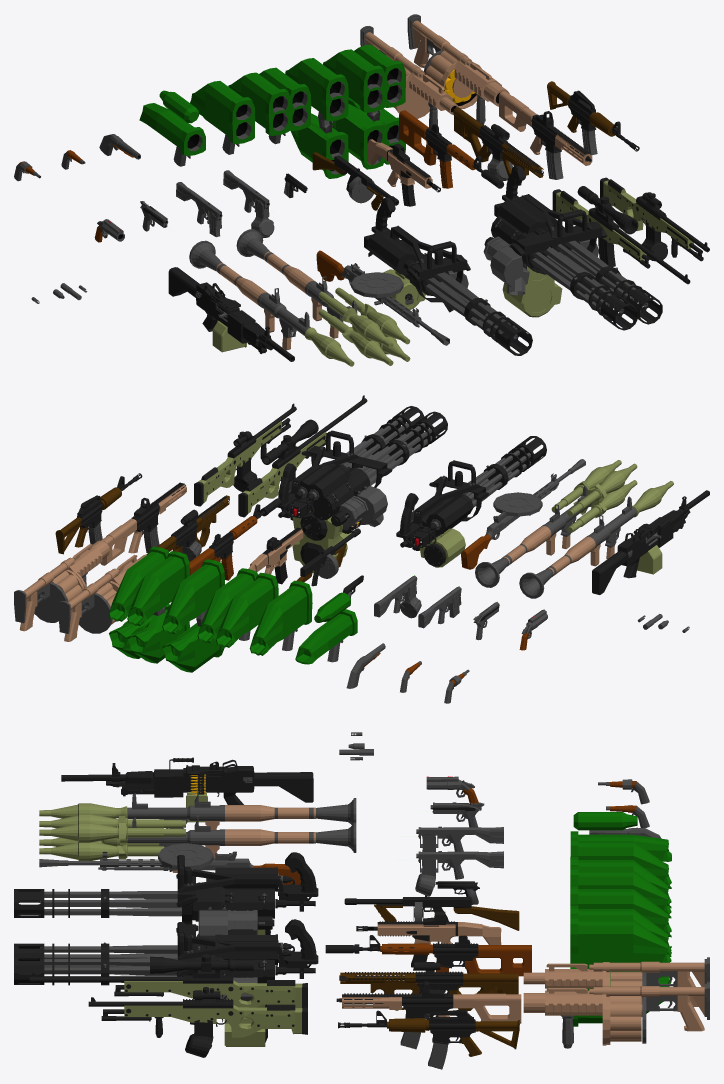
File: MQ weapons MELEE.fbx
3 renders of one model, top to bottom at view 1: azimuth 30°, elevation 25°; view 2: azimuth 150°, elevation 25°; view 3: azimuth 270°, elevation 25°, orthographic. The views are drawn at different scales.
Parts seen in each view (by area): view 1: MiniGunLVL2, MiniGun, BazookaLVL5, RPGLVL2, BazookaLVL4, BazookaLVL3, RPG, GranadeLouncherLVL2, MachinGun, SniperRifle, BazookaLVL2, MG4 (+14 smaller); view 2: MiniGunLVL2, MiniGun, BazookaLVL5, RPGLVL2, BazookaLVL4, BazookaLVL3, GranadeLouncherLVL2, RPG, SniperRifle, GranadeLouncher, BazookaLVL2, MachinGun (+15 smaller); view 3: MiniGun, MiniGunLVL2, RPGLVL2, SniperRifle, BazookaLVL5, GranadeLouncherLVL2, MachinGun, SniperRifleAuto, RPG, GranadeLouncher, MG4, MG3 (+19 smaller).
Part boxes in pixels (bbox=[...]): MiniGunLVL2: bbox=[483, 165, 662, 330]; MiniGun: bbox=[364, 197, 532, 355]; BazookaLVL5: bbox=[323, 44, 405, 169]; RPGLVL2: bbox=[236, 229, 410, 365]; BazookaLVL4: bbox=[285, 58, 348, 178]; BazookaLVL3: bbox=[228, 67, 311, 144]; RPG: bbox=[189, 240, 354, 366]; GranadeLouncherLVL2: bbox=[407, 14, 509, 125]; MachinGun: bbox=[168, 267, 294, 361]; SniperRifle: bbox=[552, 186, 690, 284]; BazookaLVL2: bbox=[190, 81, 255, 154]; MG4: bbox=[499, 91, 592, 179]; MiniGunLVL2: bbox=[277, 406, 447, 573]; MiniGun: bbox=[396, 436, 546, 567]; BazookaLVL5: bbox=[109, 546, 189, 663]; RPGLVL2: bbox=[475, 460, 637, 587]; BazookaLVL4: bbox=[162, 559, 224, 672]; BazookaLVL3: bbox=[197, 568, 278, 647]; GranadeLouncherLVL2: bbox=[14, 540, 109, 631]; RPG: bbox=[519, 481, 673, 598]; SniperRifle: bbox=[238, 395, 367, 517]; GranadeLouncher: bbox=[58, 554, 146, 641]; BazookaLVL2: bbox=[249, 580, 312, 655]; MachinGun: bbox=[592, 490, 709, 594]; MiniGun: bbox=[14, 852, 318, 939]; MiniGunLVL2: bbox=[14, 919, 318, 1046]; RPGLVL2: bbox=[39, 814, 356, 872]; SniperRifle: bbox=[29, 954, 307, 1007]; BazookaLVL5: bbox=[570, 905, 671, 1026]; GranadeLouncherLVL2: bbox=[523, 981, 709, 1048]; MachinGun: bbox=[61, 759, 313, 804]; SniperRifleAuto: bbox=[88, 997, 307, 1037]; RPG: bbox=[39, 790, 356, 829]; GranadeLouncher: bbox=[523, 957, 709, 1019]; MG4: bbox=[336, 981, 521, 1049]; MG3: bbox=[339, 962, 518, 1017].
Size of the model in its own units: 5064 by 1066 by 4817.
